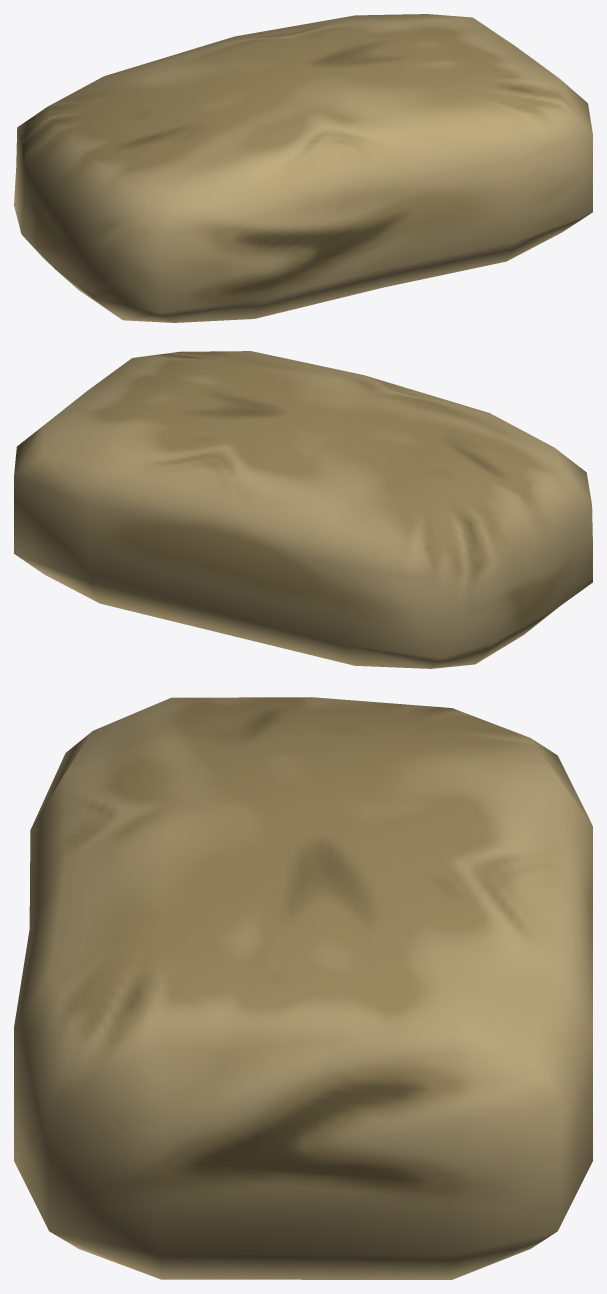
Rendered from Sandbag.fbx.
The picture shows the model from 3 angles, top to bottom: view 1: azimuth 30°, elevation 25°; view 2: azimuth 150°, elevation 25°; view 3: azimuth 270°, elevation 25°; orthographic projection. The views are drawn at different scales.
Visible parts, largest first — view 1: Sandbag; view 2: Sandbag; view 3: Sandbag.
Boxes of the visible parts, <box> form: Sandbag: <box>14,14,592,322</box>; Sandbag: <box>14,351,592,668</box>; Sandbag: <box>14,697,592,1279</box>.
Size of the model in its own units: 1.07 by 0.3699 by 0.6528.
